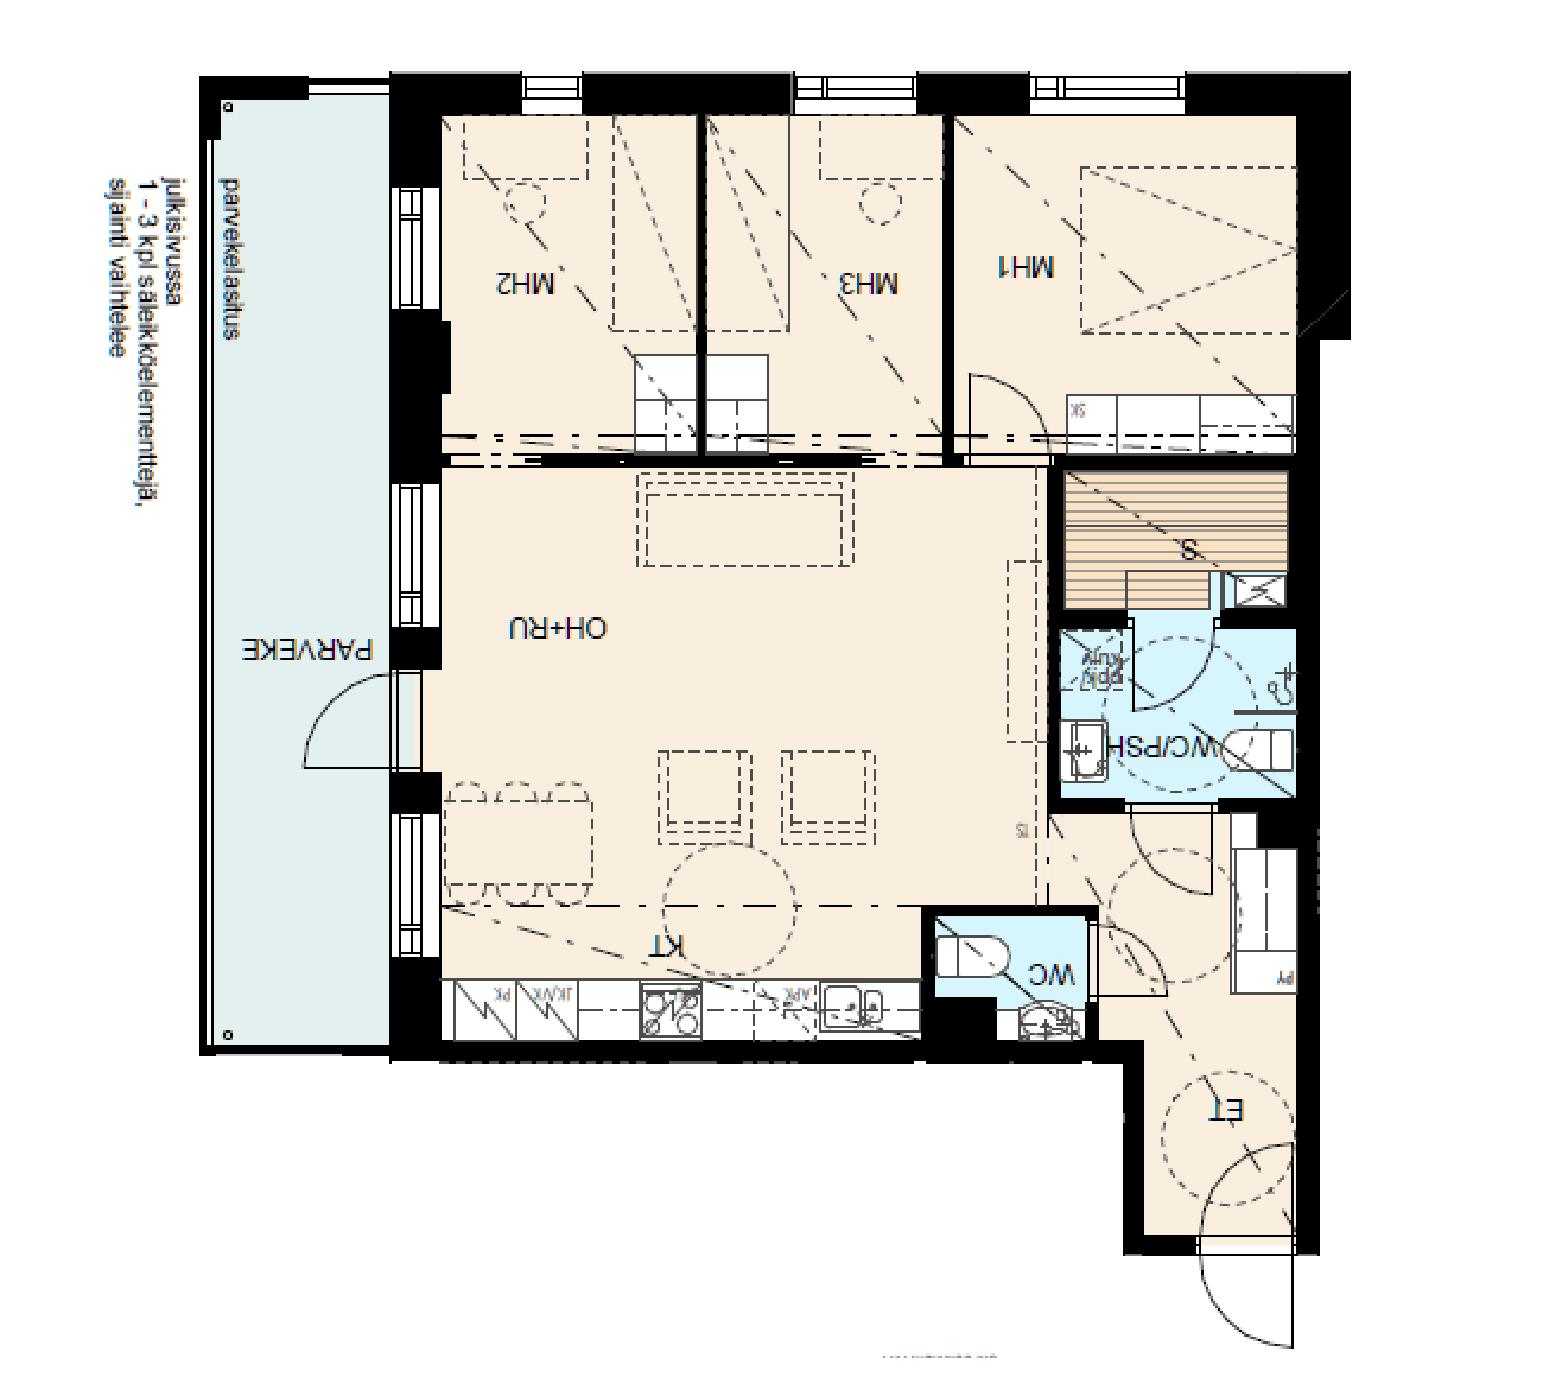door: (1185, 1121, 1308, 1357), (292, 660, 444, 779), (1126, 618, 1224, 722), (962, 374, 1056, 478), (1126, 799, 1224, 896), (1077, 918, 1169, 1005)
window: (391, 482, 441, 627), (383, 177, 435, 308), (391, 812, 437, 959), (1026, 73, 1181, 109), (789, 70, 909, 112), (513, 63, 585, 112)
zone: (446, 468, 1296, 1244), (214, 95, 388, 1053), (952, 114, 1289, 454), (437, 109, 688, 454), (702, 109, 944, 462), (1060, 621, 1292, 795), (1059, 470, 1294, 615), (921, 924, 1081, 1049)
